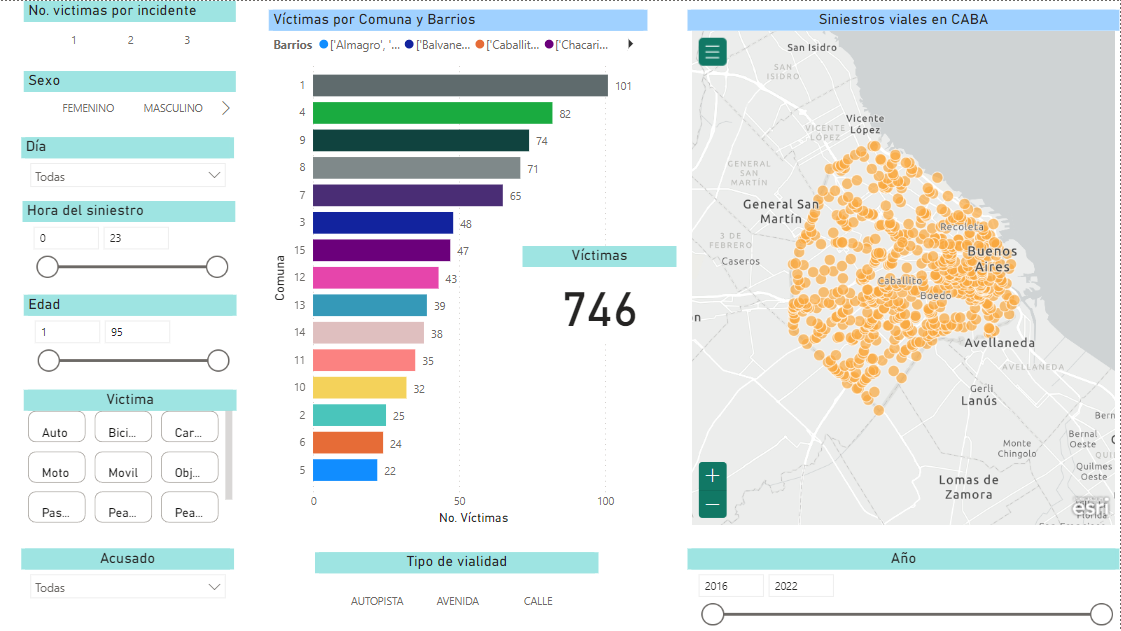

Layout of this report page (visuals, bound fields, positions):
{"tool":"powerbi","page":{"name":"Información espacial","canvas":[1280,720],"ordinal":2},"visuals":[{"type":"esriVisual","title":"Siniestros viales en CABA","fields":{"Latitude":["siniestros.Pos_Y"],"Longitude":["siniestros.Pos_X"]},"box":[757.1,21.4,492.9,594.3],"z":0},{"type":"slicer","fields":{"Values":["siniestros.N_Victimas"]},"box":[0,0,269,70],"z":1000},{"type":"slicer","fields":{"Values":["siniestros.Sexo"]},"box":[0,72.7,269,65.9],"z":2000},{"type":"slicer","fields":{"Values":["siniestros.Tipo_De_Calle"]},"box":[384.3,0,311.4,90],"z":3000},{"type":"slicer","title":"Edad victimas","fields":{"Values":["siniestros.Edad"]},"box":[25.7,360,242.9,90],"z":4000},{"type":"slicer","title":"Hora del  siniestro","fields":{"Values":["siniestros.Hora_Siniestro"]},"box":[25.7,251.4,242.9,95.7],"z":6000},{"type":"slicer","fields":{"Values":["siniestros.Dia_Semana_Siniestro"]},"box":[25.7,168.6,242.9,57.1],"z":7000},{"type":"barChart","fields":{"Category":["siniestros.Comuna"],"Y":["Sum(siniestros.N_Victimas)"],"Series":["Comuna y barrios.Barrios"]},"box":[323.8,104.3,432.2,616.1],"z":8000},{"type":"advancedSlicerVisual","fields":{"Values":["siniestros.Victima"]},"box":[25.7,465.7,242.9,160],"z":9000},{"type":"slicer","fields":{"Values":["siniestros.Acusado"]},"box":[25.7,657.1,242.9,62.9],"z":10000},{"type":"card","fields":{"Values":["Sum(siniestros.N_Victimas)"]},"box":[554.4,546.1,177,111.1],"z":11000},{"type":"slicer","fields":{"Values":["siniestros.Anio_Fallecimiento"]},"box":[757.1,625.7,492.9,94.3],"z":11001}]}

Visuals, with their boxes in screenshot pixels (x1, y1, x2, y2), scaled from the page's 1280x720 canvas onto the 1121x631 screenshot:
"Siniestros viales en CABA" esriVisual: select_region(663, 19, 1095, 540)
slicer - siniestros.N_Victimas: select_region(0, 0, 236, 61)
slicer - siniestros.Sexo: select_region(0, 64, 236, 121)
slicer - siniestros.Tipo_De_Calle: select_region(337, 0, 609, 79)
"Edad victimas" slicer: select_region(23, 316, 235, 394)
"Hora del  siniestro" slicer: select_region(23, 220, 235, 304)
slicer - siniestros.Dia_Semana_Siniestro: select_region(23, 148, 235, 198)
barChart - siniestros.Comuna x Sum(siniestros.N_Victimas): select_region(284, 91, 662, 630)
advancedSlicerVisual - siniestros.Victima: select_region(23, 408, 235, 548)
slicer - siniestros.Acusado: select_region(23, 576, 235, 630)
card - Sum(siniestros.N_Victimas): select_region(486, 479, 641, 576)
slicer - siniestros.Anio_Fallecimiento: select_region(663, 548, 1095, 630)
